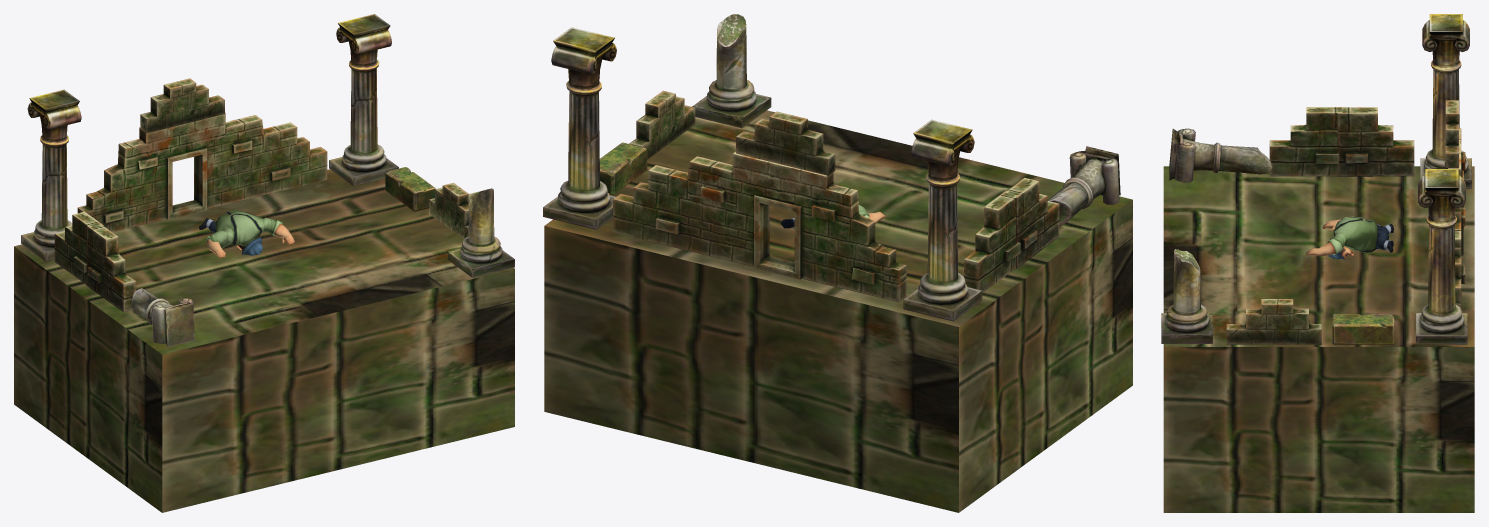
File: GameOverScene.fbx
3 views of the same model, side by side, from view 1: azimuth 30°, elevation 25°; view 2: azimuth 150°, elevation 25°; view 3: azimuth 270°, elevation 25° (orthographic). The views are drawn at different scales.
Parts seen in each view (by area): view 1: Cube__73_, wall_1, column_4, column___1_1, column_3, wall_3__1_1, wall_2__1_1, char_man:Object002, column_2, wall_5, wall_4, stone_cube_2; view 2: Cube__73_, wall_1, column_4, column___1_1, column_3, wall_2__1_1, wall_5, column_2, wall_3__1_1, wall_4, stone_cube_2; view 3: Cube__73_, column_4, wall_5, column___1_1, wall_3__1_1, wall_4, column_3, column_2, char_man:Object002, stone_cube_2, wall_1, wall_2__1_1.
Part boxes in pixels (x1,y1,x2,y2): Cube__73_: [14, 169, 514, 512]; wall_1: [77, 112, 327, 232]; column_4: [329, 14, 398, 186]; column___1_1: [21, 89, 81, 261]; column_3: [447, 188, 514, 277]; wall_3__1_1: [86, 224, 136, 312]; wall_2__1_1: [140, 78, 224, 133]; char_man:Object002: [199, 210, 294, 257]; column_2: [131, 288, 194, 347]; wall_5: [54, 211, 103, 284]; wall_4: [429, 183, 468, 238]; stone_cube_2: [385, 167, 435, 211]; Cube__73_: [544, 110, 1132, 512]; wall_1: [613, 151, 906, 302]; column_4: [543, 27, 616, 229]; column___1_1: [903, 119, 982, 321]; column_3: [692, 14, 771, 128]; wall_2__1_1: [736, 111, 835, 175]; wall_5: [964, 190, 1020, 292]; column_2: [1047, 146, 1120, 226]; wall_3__1_1: [1005, 178, 1059, 268]; wall_4: [629, 90, 695, 159]; stone_cube_2: [599, 142, 647, 194]; Cube__73_: [1163, 166, 1474, 512]; column_4: [1416, 169, 1467, 344]; wall_5: [1337, 107, 1414, 176]; column___1_1: [1420, 14, 1471, 188]; wall_3__1_1: [1269, 107, 1345, 176]; wall_4: [1226, 299, 1321, 344]; column_3: [1161, 249, 1212, 343]; column_2: [1169, 128, 1272, 182]; char_man:Object002: [1306, 216, 1393, 259]; stone_cube_2: [1332, 314, 1394, 344]; wall_1: [1444, 128, 1465, 309]; wall_2__1_1: [1445, 100, 1458, 168].
Size of the model in its own units: 10.48 by 8.69 by 7.59.
